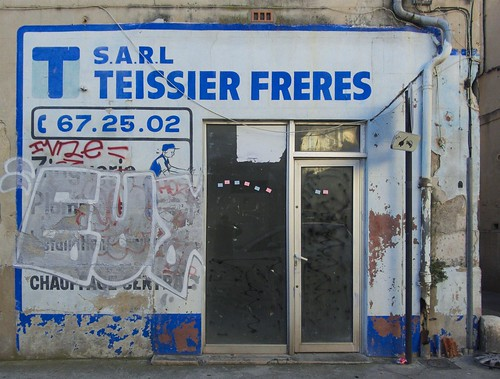door: (201, 126, 360, 355)
graffiti: (13, 160, 190, 306)
wall: (6, 34, 198, 353)
